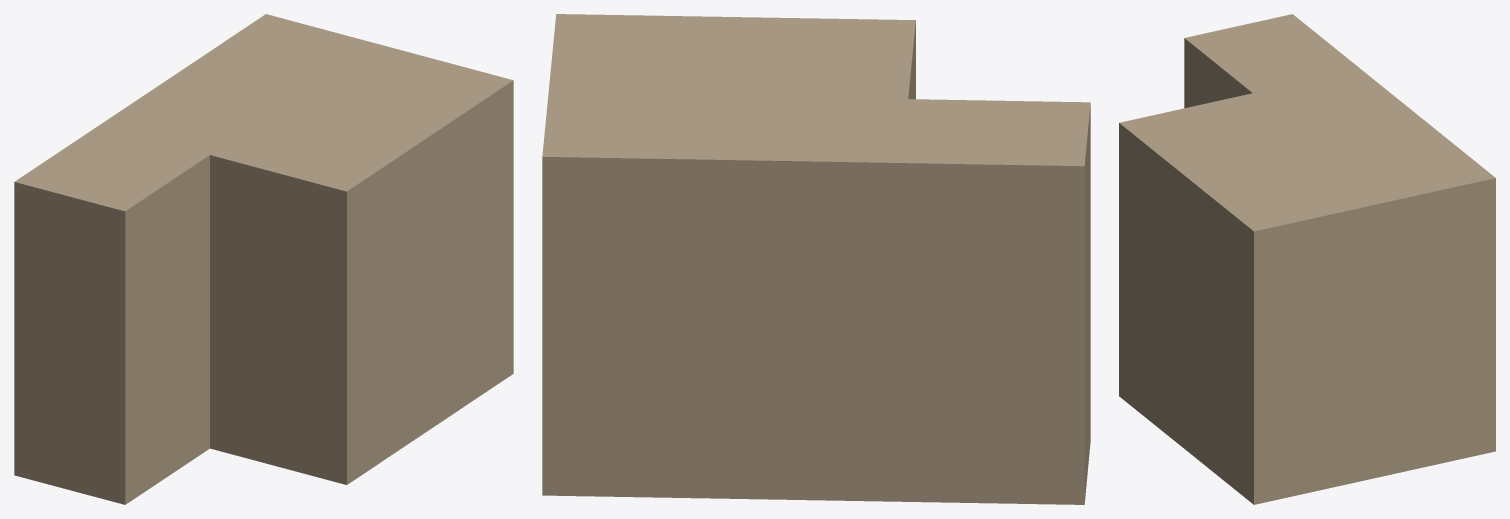
Rendered from bld_100469475.dae.
3 views of the same model, side by side, from view 1: azimuth 30°, elevation 25°; view 2: azimuth 150°, elevation 25°; view 3: azimuth 270°, elevation 25° (orthographic). The views are drawn at different scales.
Parts seen in each view (by area): view 1: bld_100469475; view 2: bld_100469475; view 3: bld_100469475.
Boxes of the visible parts, x1,y1,x2,y2 form: bld_100469475: (14, 14, 513, 504); bld_100469475: (542, 14, 1090, 504); bld_100469475: (1119, 14, 1495, 504).
Bounding box in the file's own units: 13.65 × 9.99 × 8.
